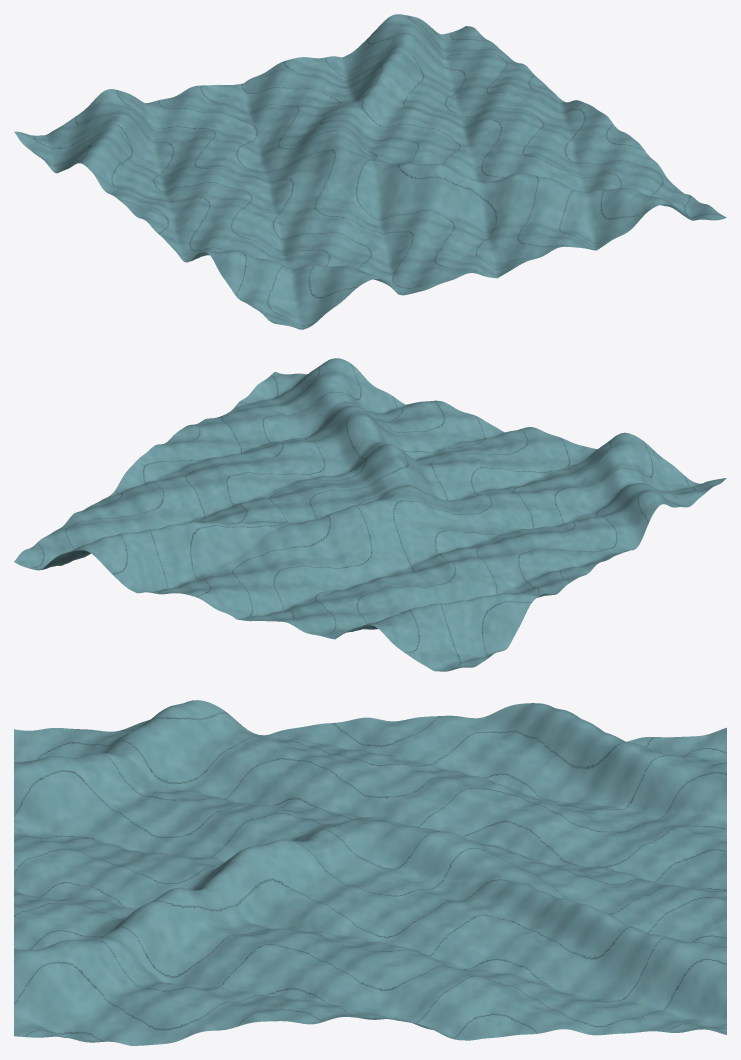
Rendered from uranus_landscape.glb.
3 views of the same model, one above another, from view 1: azimuth 30°, elevation 25°; view 2: azimuth 150°, elevation 25°; view 3: azimuth 270°, elevation 25° (orthographic). The views are drawn at different scales.
Parts seen in each view (by area): view 1: Uranus Landscape; view 2: Uranus Landscape; view 3: Uranus Landscape.
Boxes of the visible parts, x1,y1,x2,y2 form: Uranus Landscape: (14, 14, 726, 329); Uranus Landscape: (14, 358, 726, 671); Uranus Landscape: (14, 700, 726, 1045).
Bounding box in the file's own units: 760 × 77.29 × 760.
Materials: 1 (1 with a texture image).
